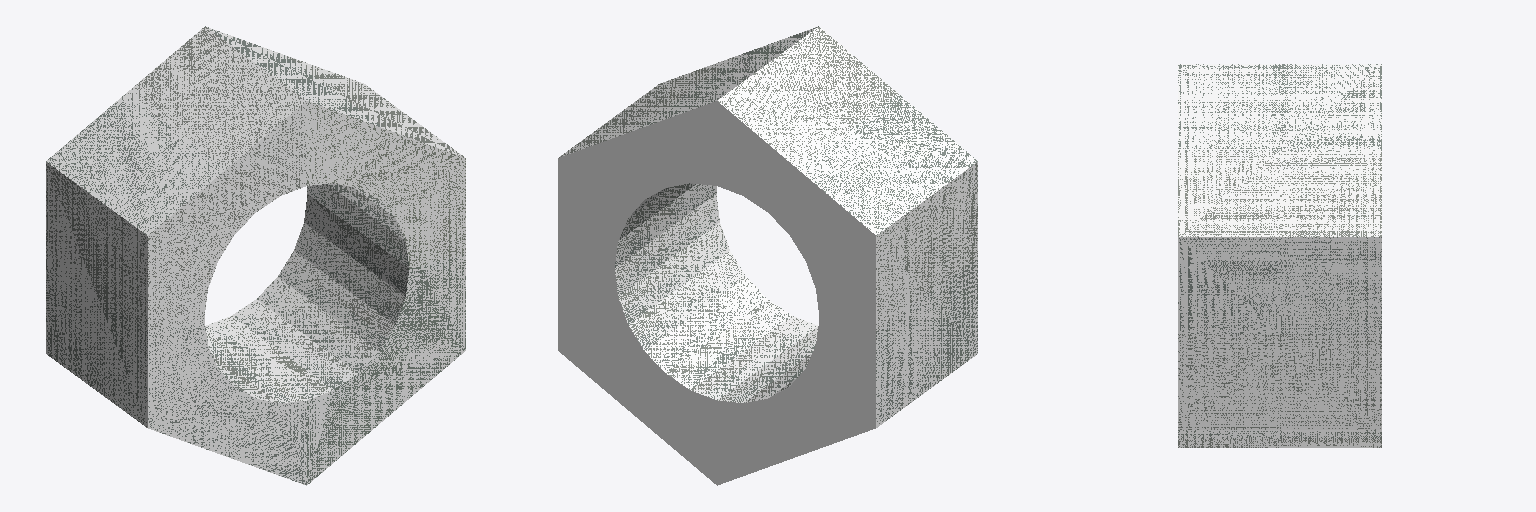
3 renders of one model, left to right at view 1: azimuth 30°, elevation 25°; view 2: azimuth 150°, elevation 25°; view 3: azimuth 270°, elevation 25°, orthographic.
Parts seen in each view (by area): view 1: Hex_Nut_.5625_1/Hex_Nut_.5625/mesh13/mesh13-geometry#mesh13-geom; view 2: Hex_Nut_.5625_1/Hex_Nut_.5625/mesh13/mesh13-geometry#mesh13-geom; view 3: Hex_Nut_.5625_1/Hex_Nut_.5625/mesh13/mesh13-geometry#mesh13-geom.
Part boxes in pixels (bbox=[...]): Hex_Nut_.5625_1/Hex_Nut_.5625/mesh13/mesh13-geometry#mesh13-geom: bbox=[46, 26, 465, 485]; Hex_Nut_.5625_1/Hex_Nut_.5625/mesh13/mesh13-geometry#mesh13-geom: bbox=[558, 26, 977, 485]; Hex_Nut_.5625_1/Hex_Nut_.5625/mesh13/mesh13-geometry#mesh13-geom: bbox=[1178, 64, 1381, 447].
Size of the model in its own units: 0.4272 by 0.4933 by 0.2366.
Materials: 3 (1 with a texture image).